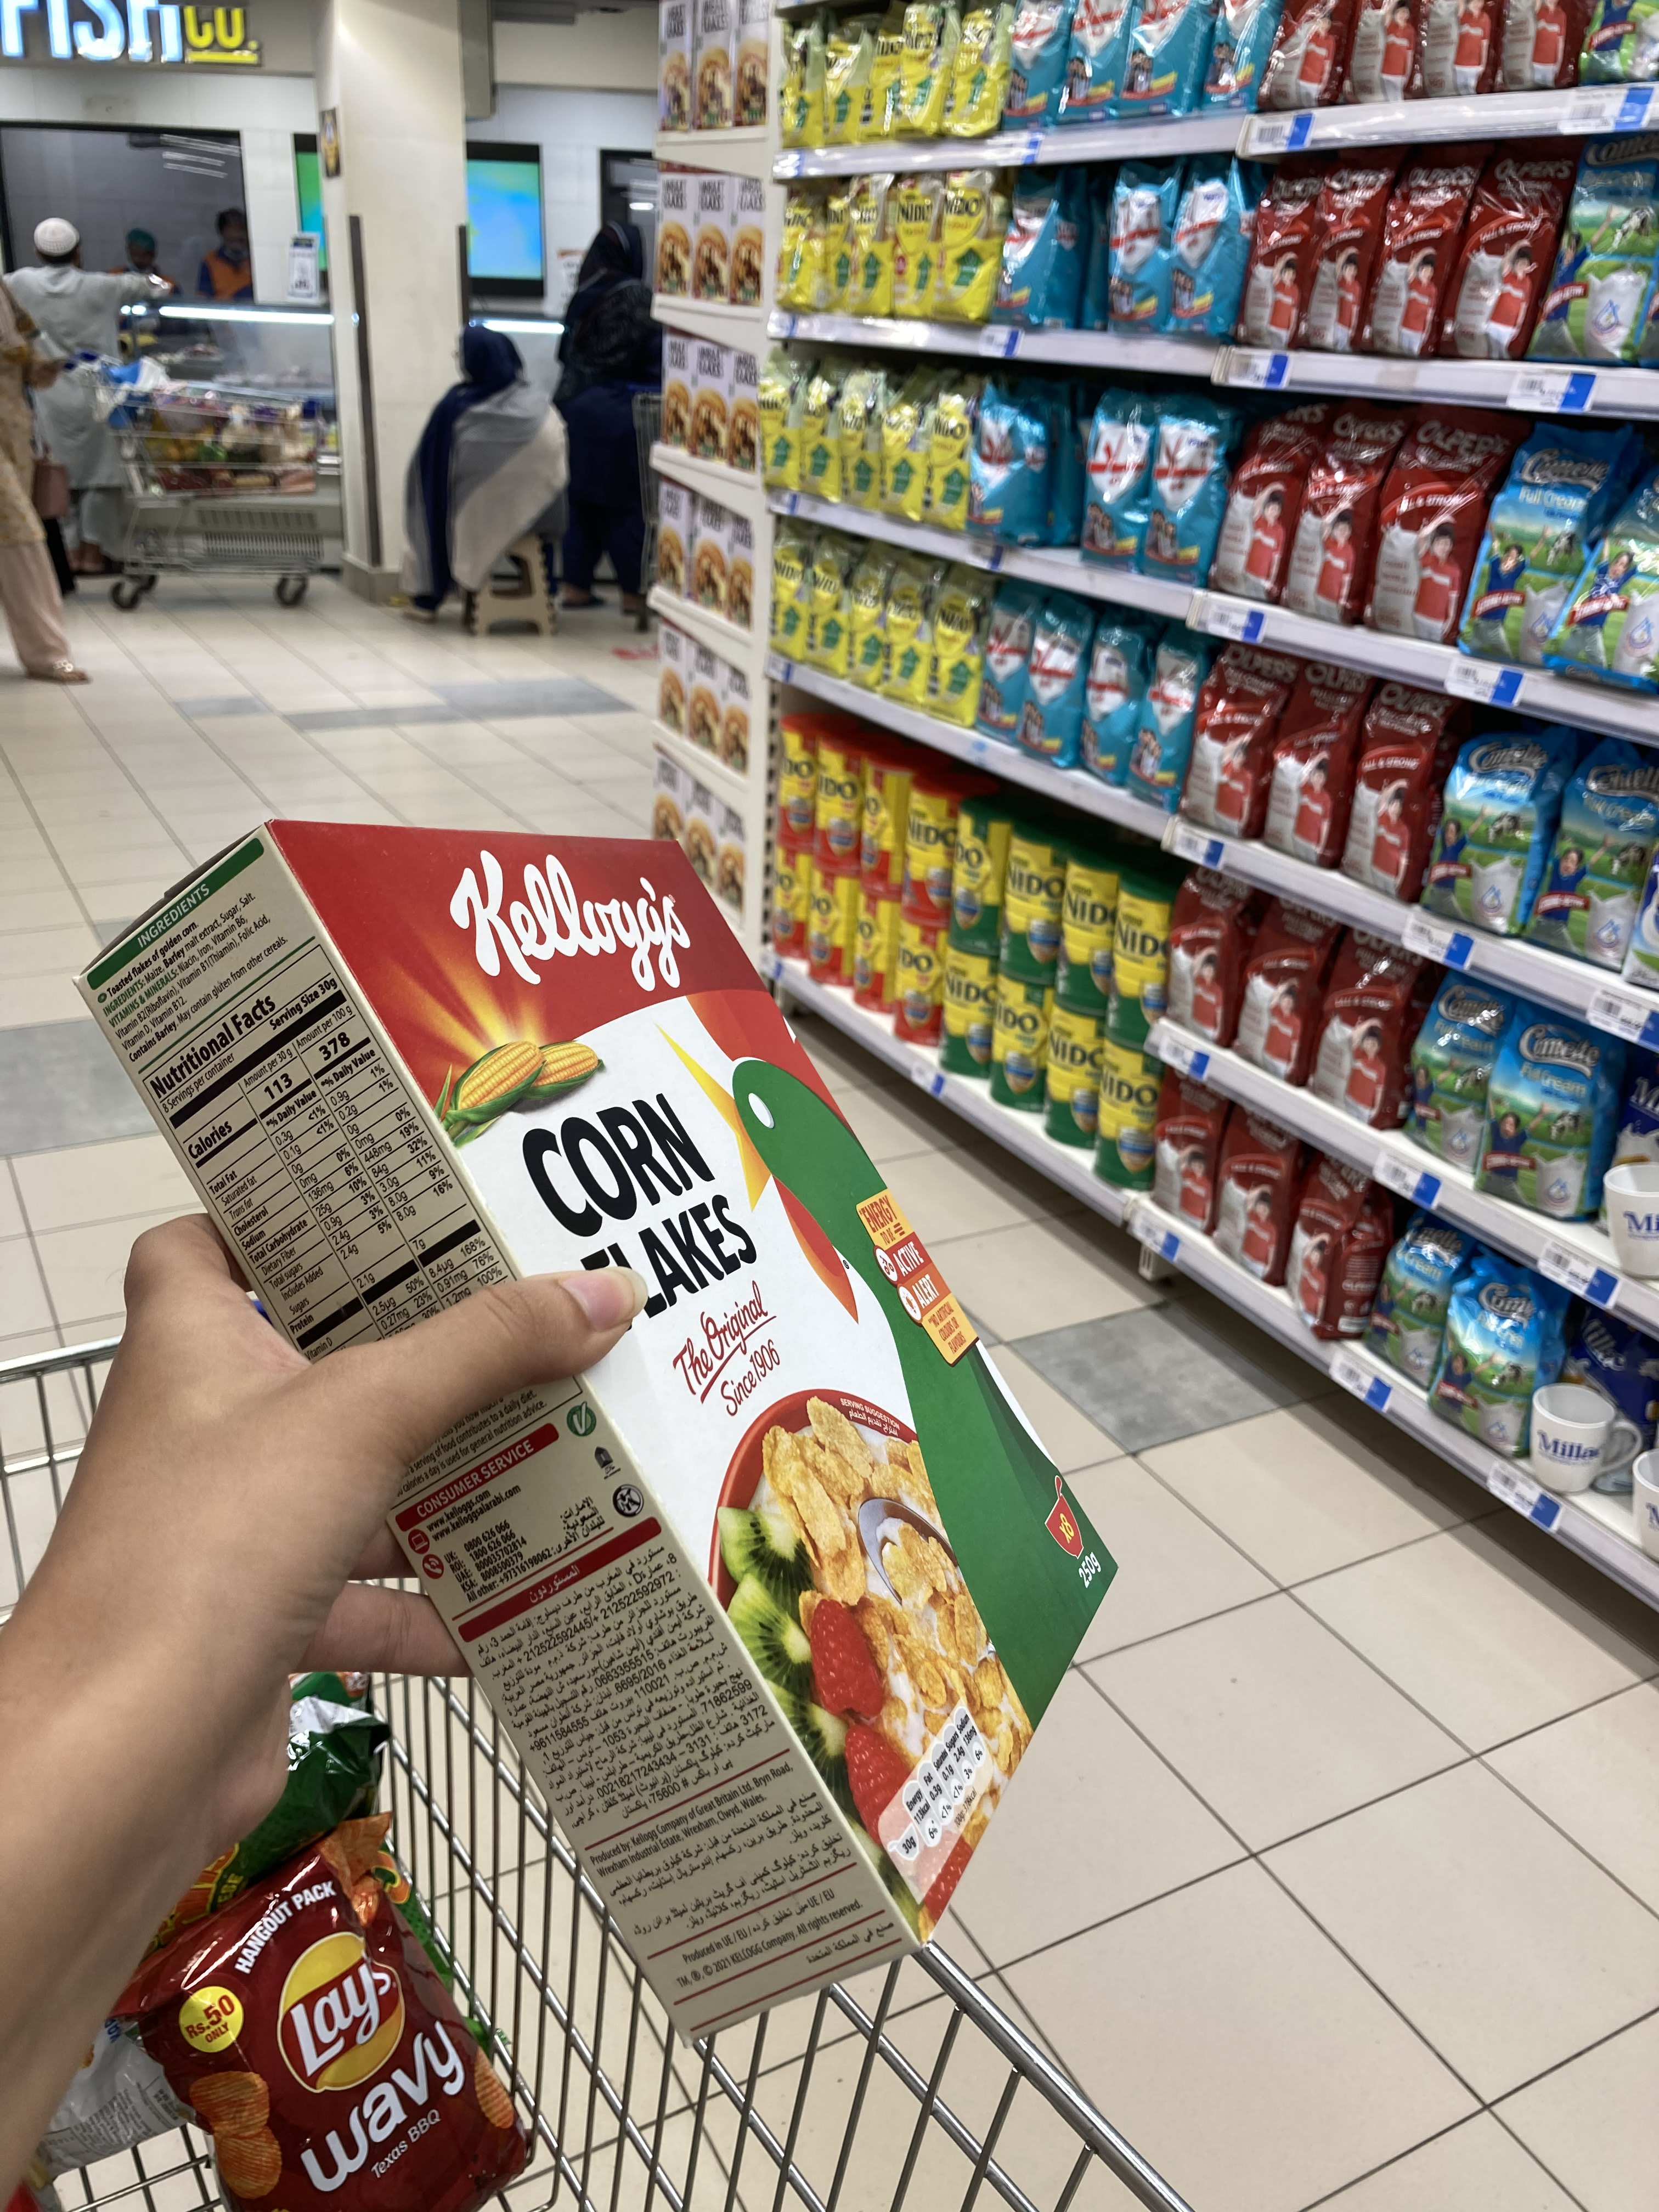Kellogg's Corn Flakes: (70, 819, 1122, 2041)
